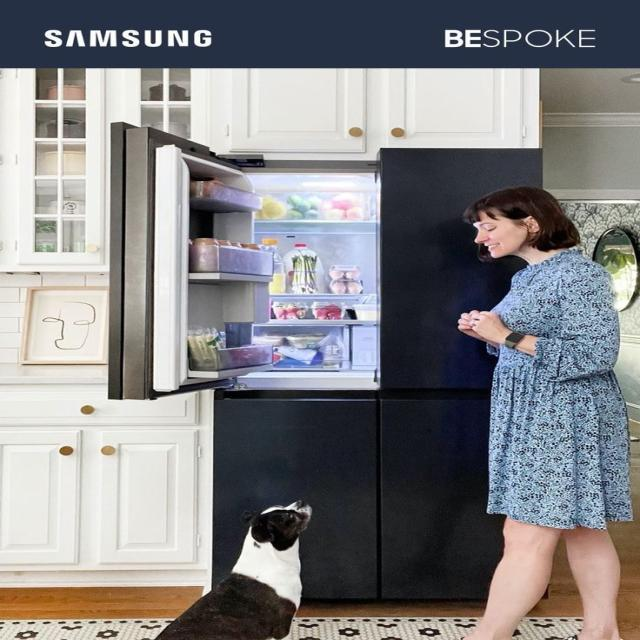obstacle: (107, 122, 541, 609)
person: (455, 186, 634, 639)
